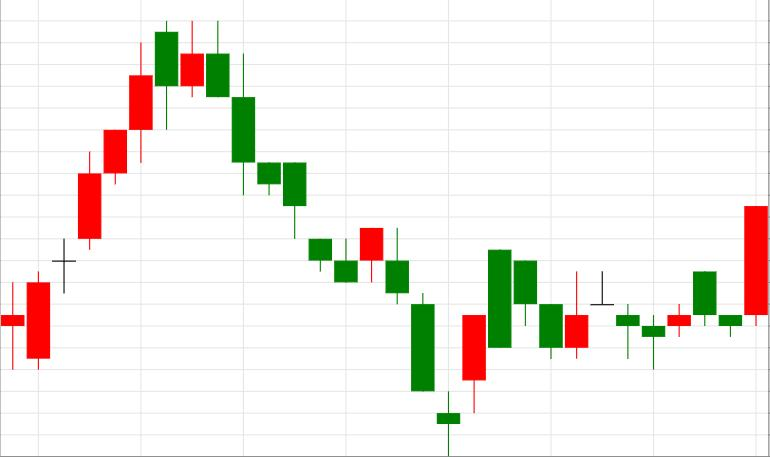morning_star_rise: (206, 21, 485, 455)
